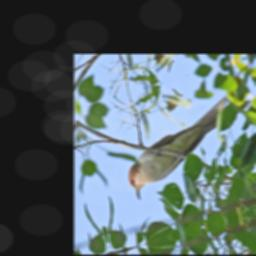Cuckoo: (114, 86, 256, 202)
